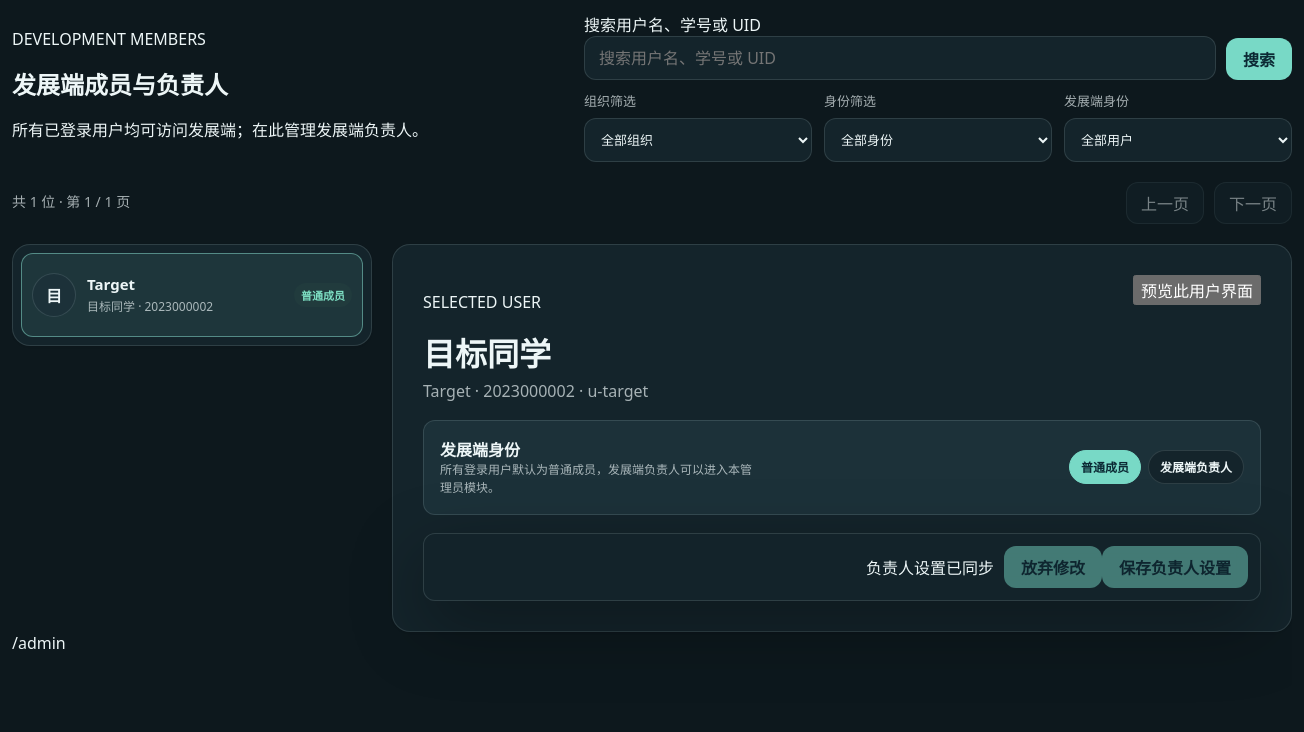
it: DevelopmentUsersSection access boundary › offers identity preview of member members only from the qualified lead directory
The image size is (1304, 732).
Click the button "预览此用户界面" at (1197, 290), box x1=1133 y1=274 x2=1261 y2=304
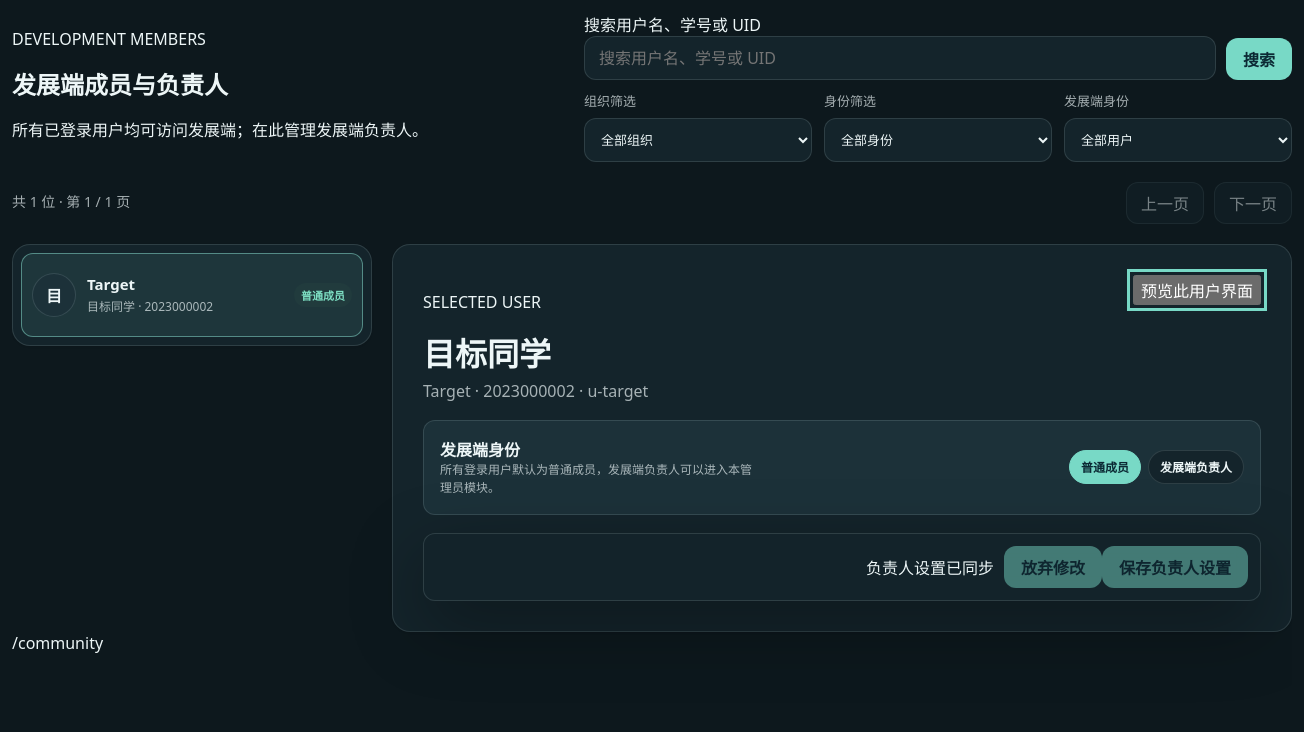
Expected: the text with test id "preview-path" reads "/community", x1=12 y1=632 x2=103 y2=654
